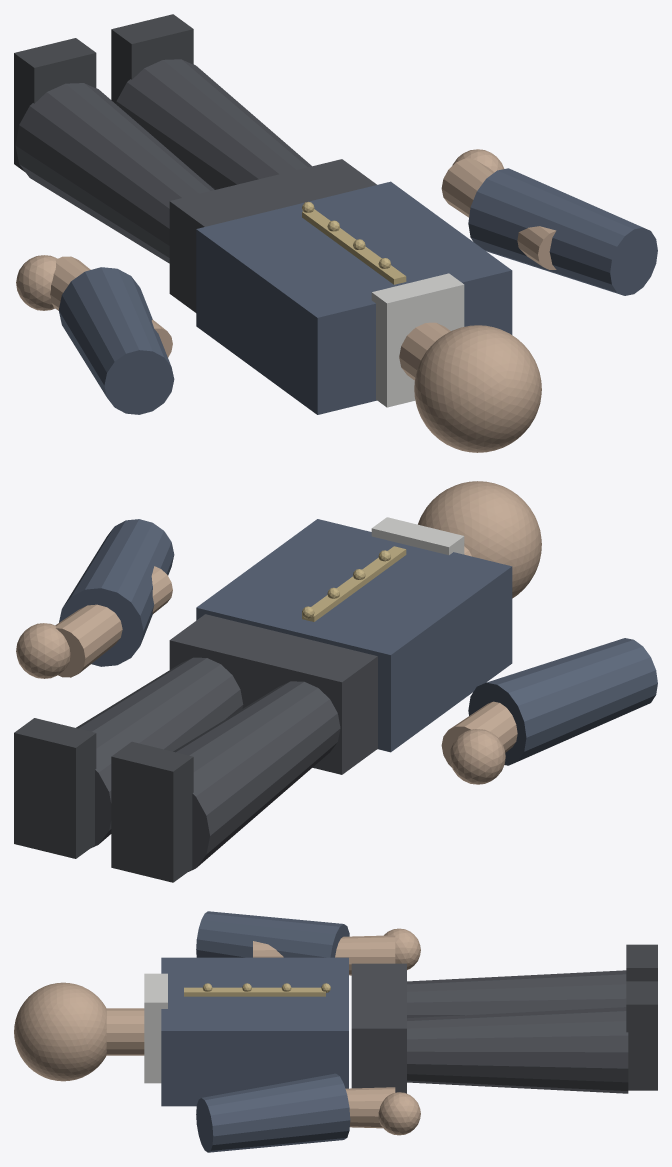
The model's file is fnfy-fashion-model.glb.
3 views of the same model, one above another, from view 1: azimuth 30°, elevation 25°; view 2: azimuth 150°, elevation 25°; view 3: azimuth 270°, elevation 25° (orthographic). The views are drawn at different scales.
Visible parts, largest first — view 1: shirt_torso, left_pant_leg, sleeve_1, right_pant_leg, head, sleeve, trouser_waist, shirt_collar, left_shoe, right_shoe, forearm_1, hand (+3 smaller); view 2: shirt_torso, left_pant_leg, trouser_waist, sleeve, right_pant_leg, left_shoe, right_shoe, sleeve_1, head, forearm_1, hand, hand_1 (+3 smaller); view 3: shirt_torso, right_pant_leg, sleeve_1, left_pant_leg, head, trouser_waist, sleeve, right_shoe, shirt_collar, forearm, neck, hand_1 (+4 smaller).
Part boxes in pixels (x1,y1,x2,y2): shirt_torso: (196, 181, 512, 414); left_pant_leg: (15, 83, 214, 263); sleeve_1: (468, 168, 657, 295); right_pant_leg: (116, 59, 311, 189); head: (414, 325, 541, 452); sleeve: (58, 267, 174, 414); trouser_waist: (169, 159, 376, 312); shirt_collar: (371, 273, 464, 407); left_shoe: (14, 38, 96, 172); right_shoe: (111, 14, 193, 103); forearm_1: (441, 158, 556, 269); hand: (16, 255, 57, 310); shirt_torso: (196, 519, 512, 752); left_pant_leg: (173, 681, 340, 871); trouser_waist: (169, 614, 377, 774); sleeve: (468, 638, 657, 765); right_pant_leg: (76, 657, 243, 847); left_shoe: (111, 741, 193, 882); right_shoe: (14, 718, 96, 858); sleeve_1: (59, 519, 174, 666); head: (418, 481, 541, 598); forearm_1: (55, 566, 172, 677); hand: (449, 729, 505, 784); hand_1: (16, 623, 70, 678); shirt_torso: (161, 957, 348, 1106); right_pant_leg: (407, 1007, 628, 1093); sleeve_1: (196, 1073, 350, 1152); left_pant_leg: (407, 970, 626, 1018); head: (14, 982, 106, 1081); trouser_waist: (351, 963, 406, 1093); sleeve: (196, 911, 349, 957); right_shoe: (626, 981, 657, 1090); shirt_collar: (144, 973, 167, 1083); forearm: (253, 935, 395, 975); neck: (106, 1008, 144, 1055); hand_1: (378, 1092, 420, 1135).
Bounding box in the file's own units: 2.5 × 0.57 × 3.26.
